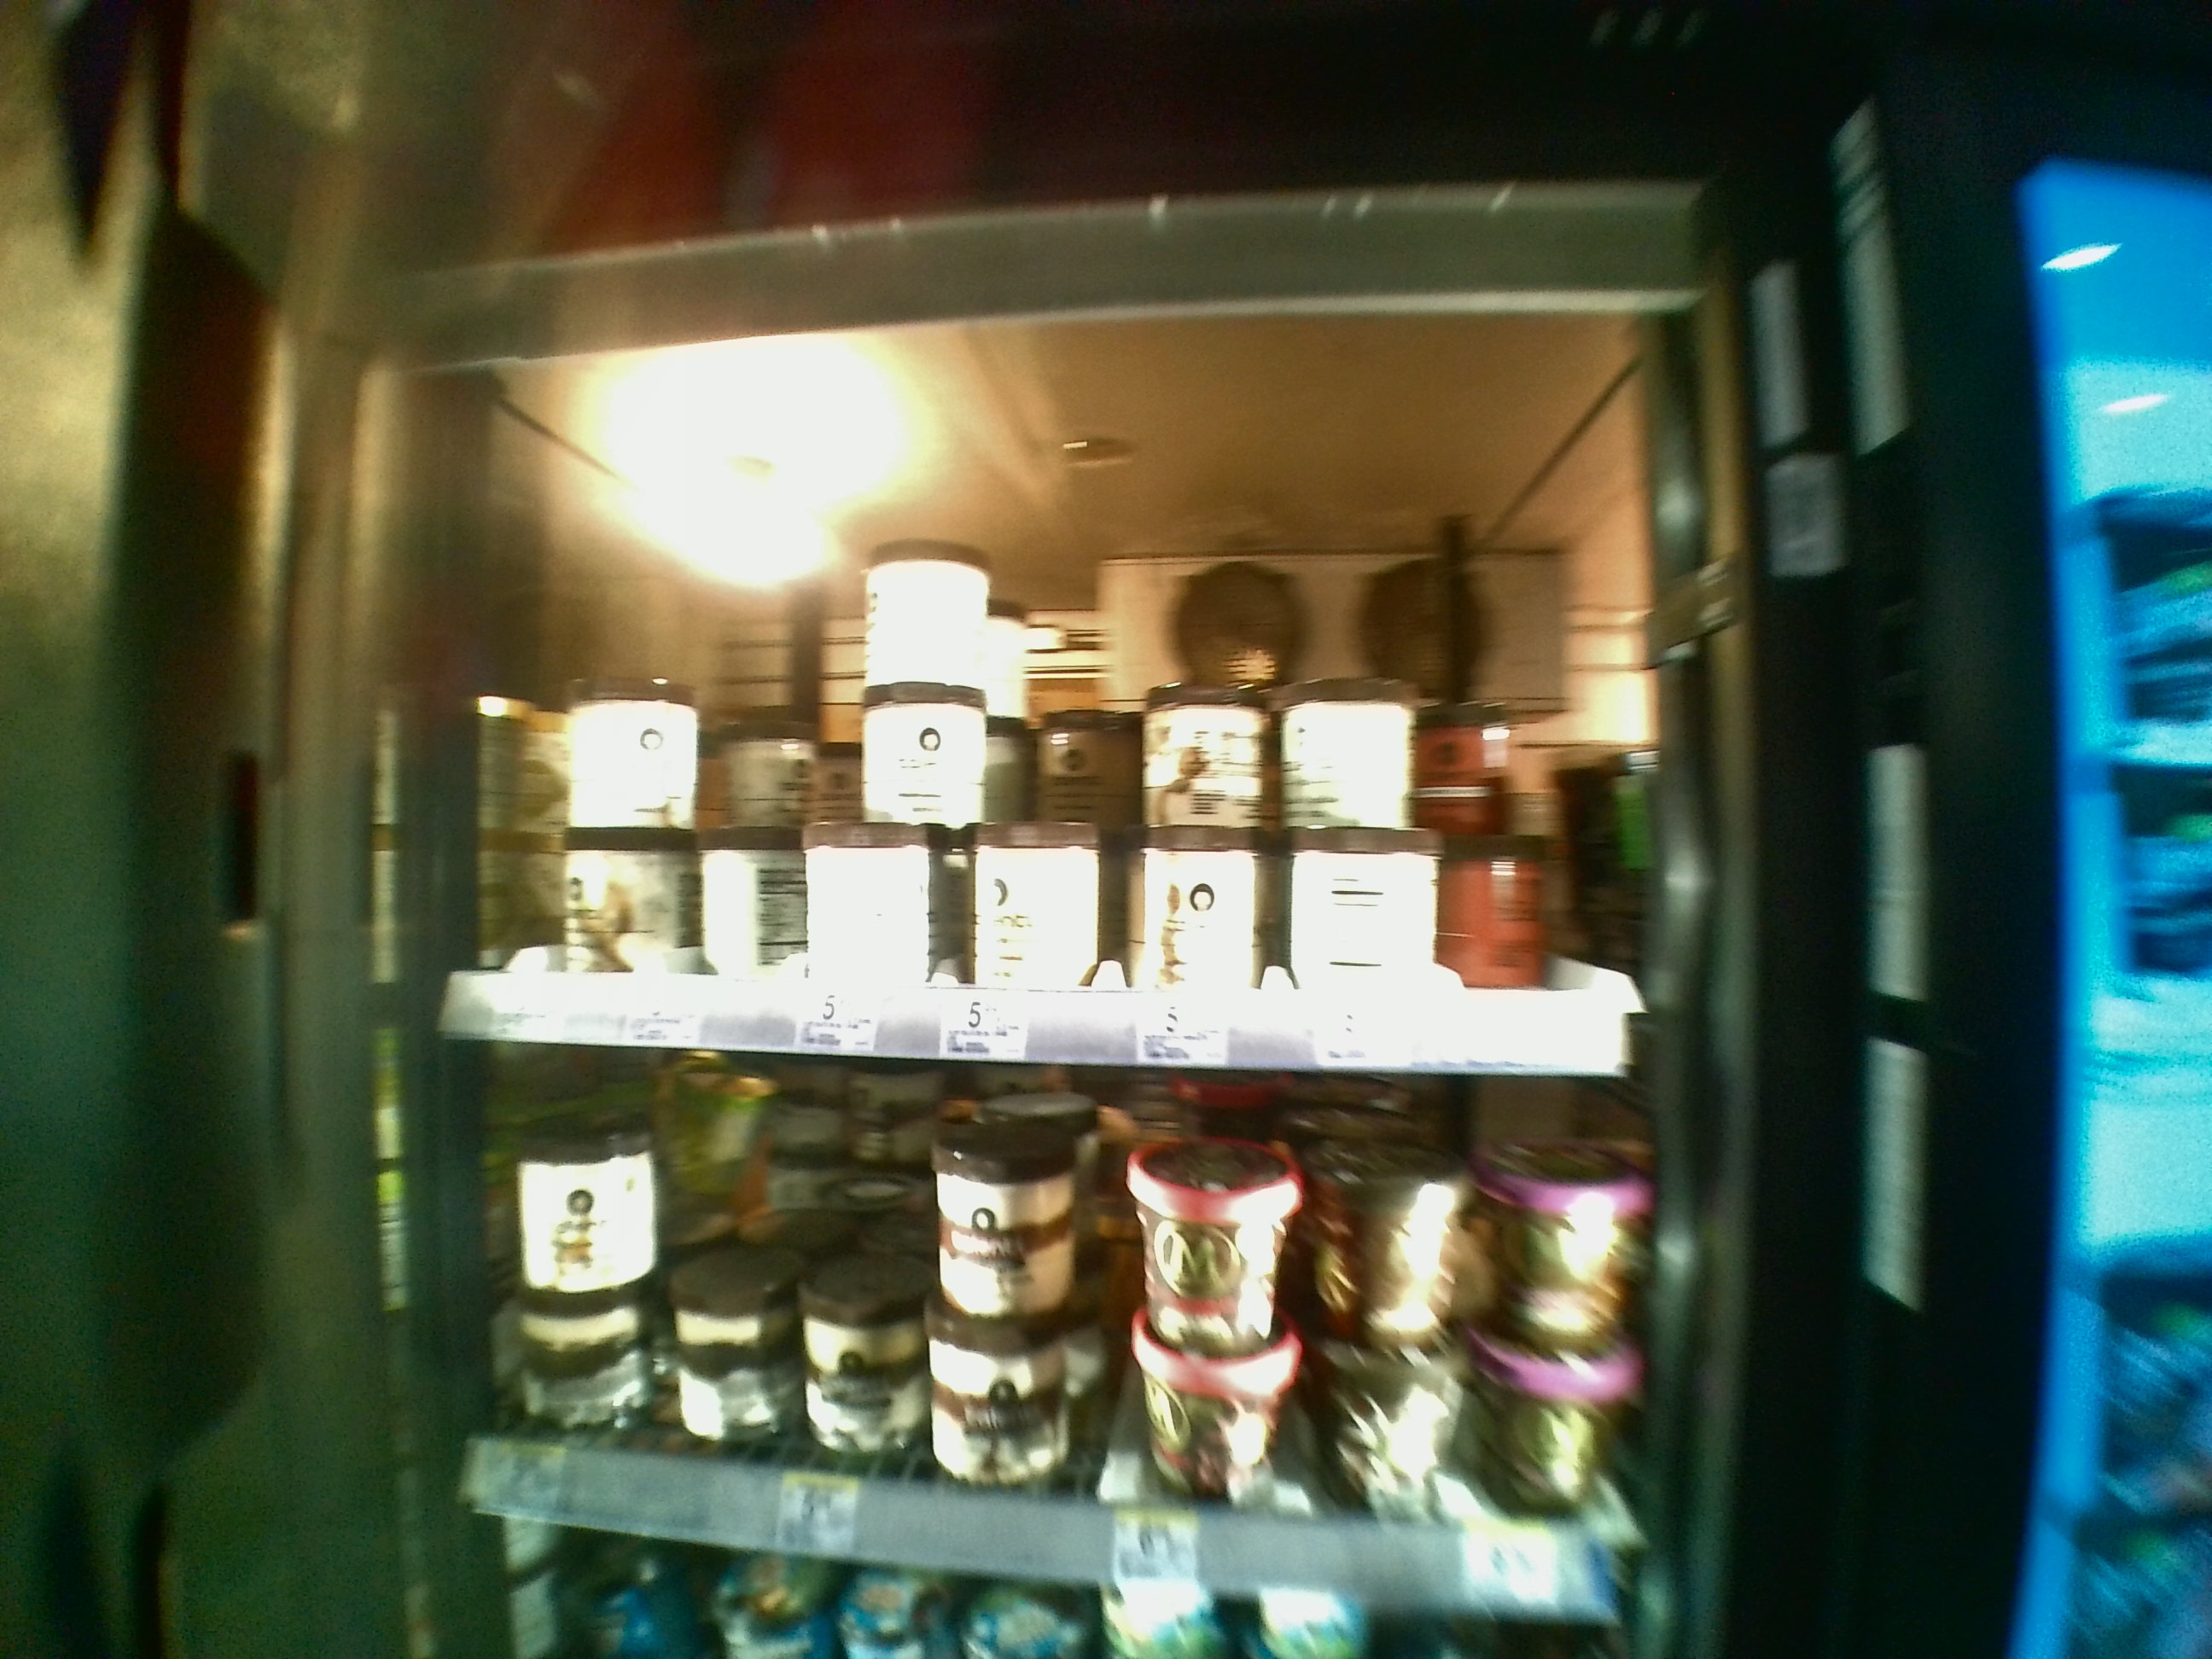shelf: (428, 336, 1691, 1068), (441, 1087, 1681, 1612)
